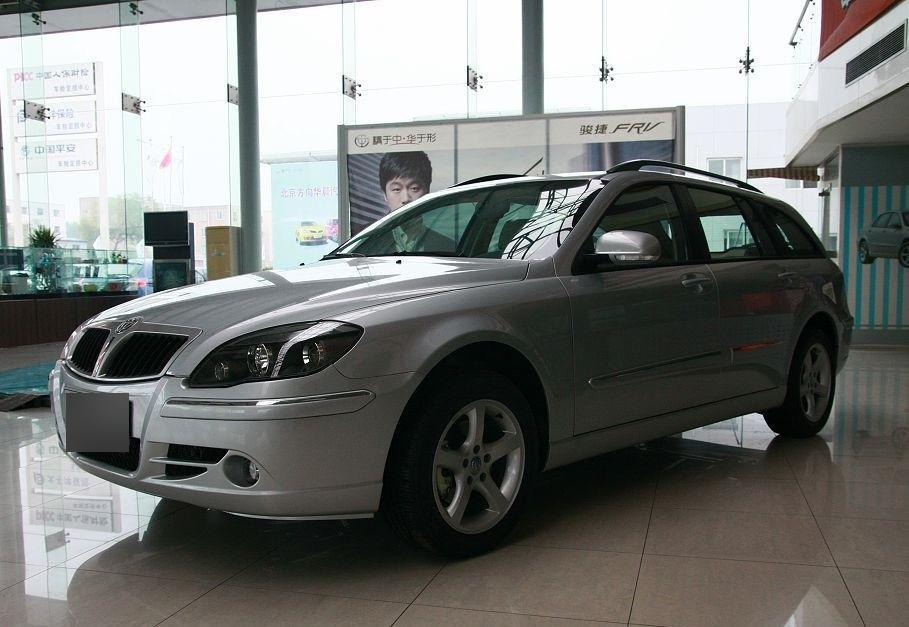Wagon: (50, 158, 854, 562)
